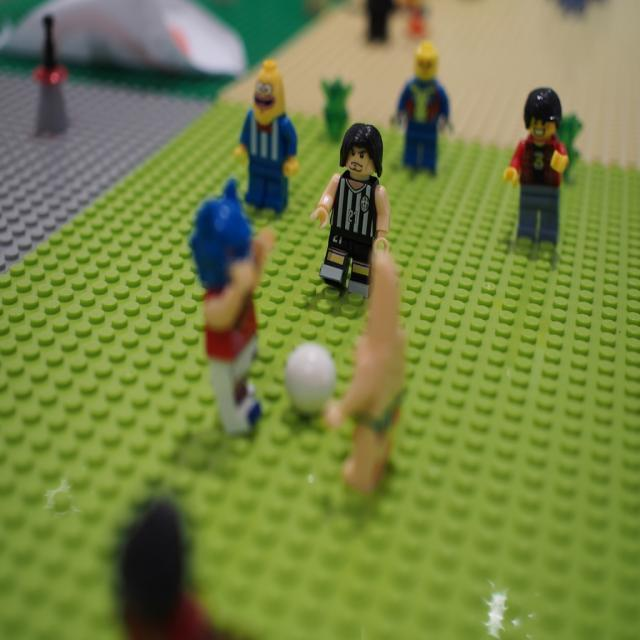ball: (283, 340, 340, 417)
